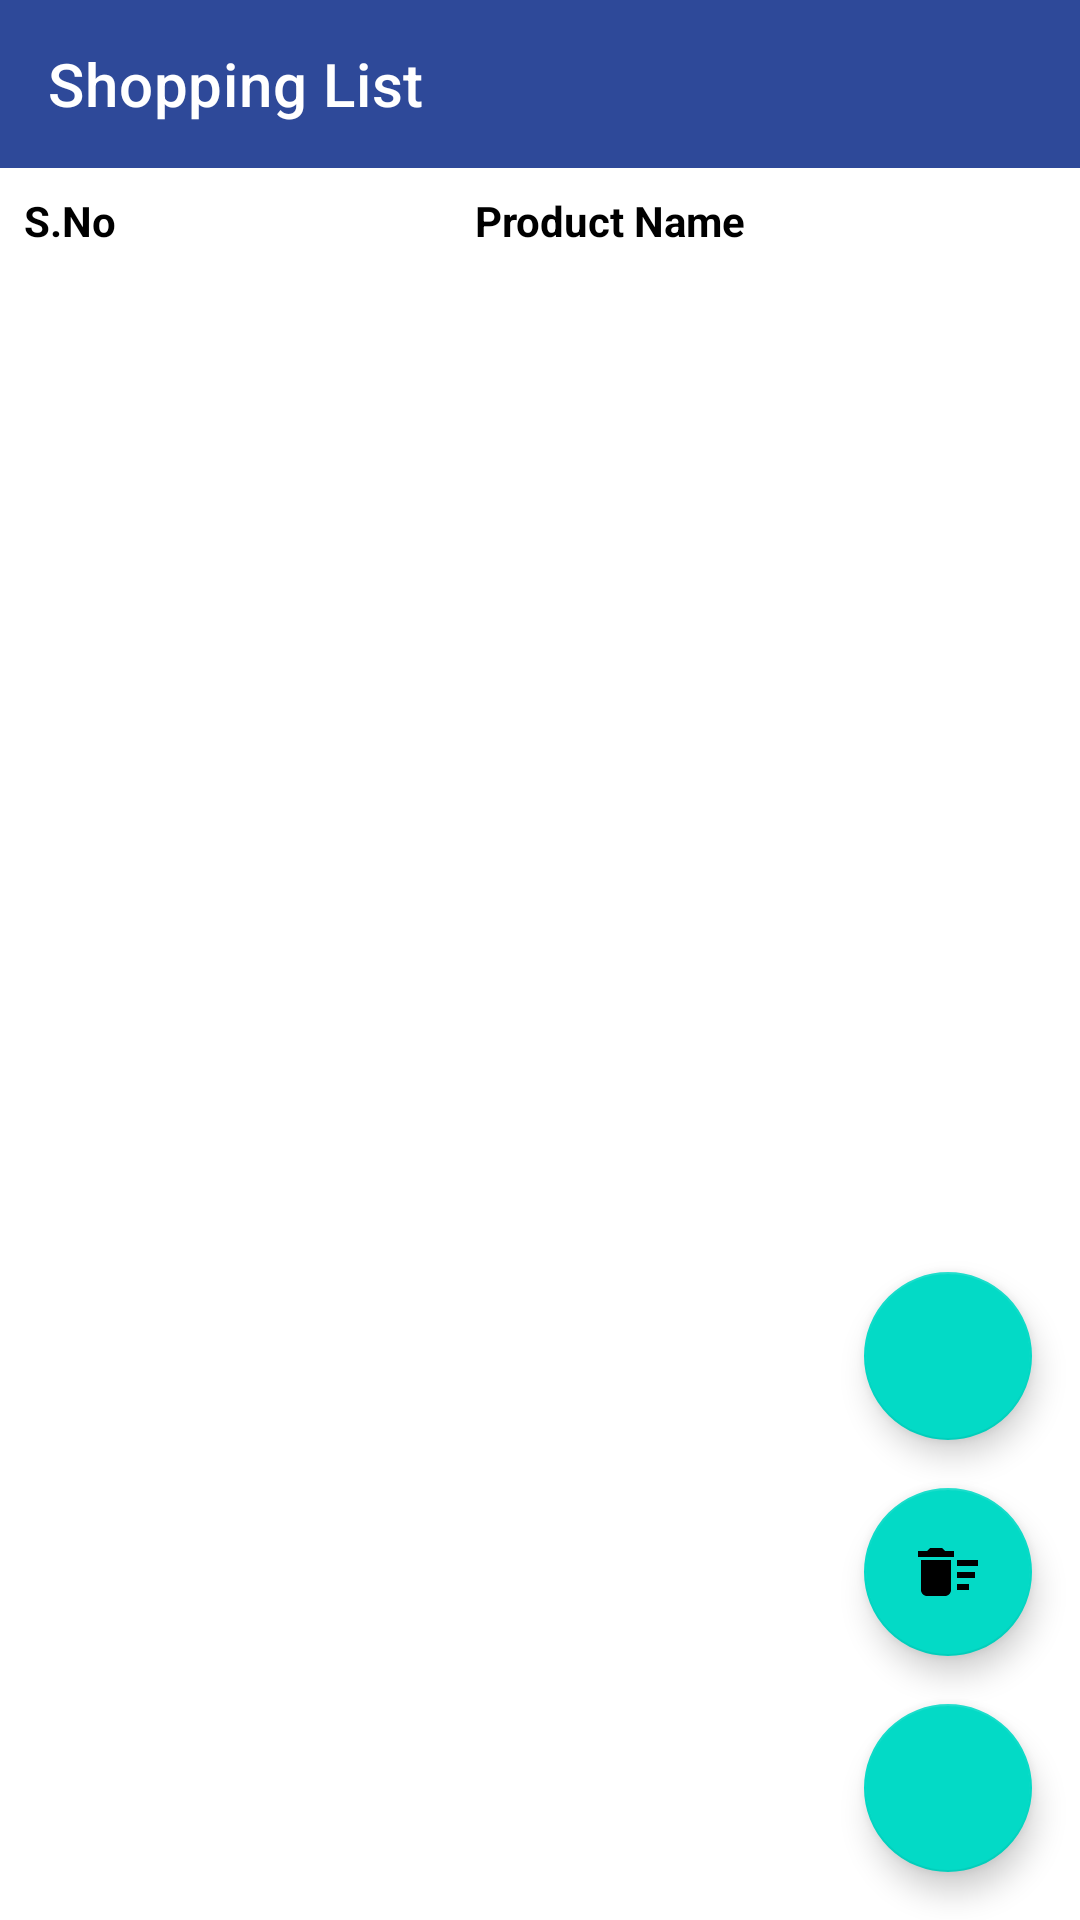

Icons on this 1080px×1920px Android screen, each with its box as (x1, y1, x2, y2):
delete all: (864, 1488, 1032, 1656)
